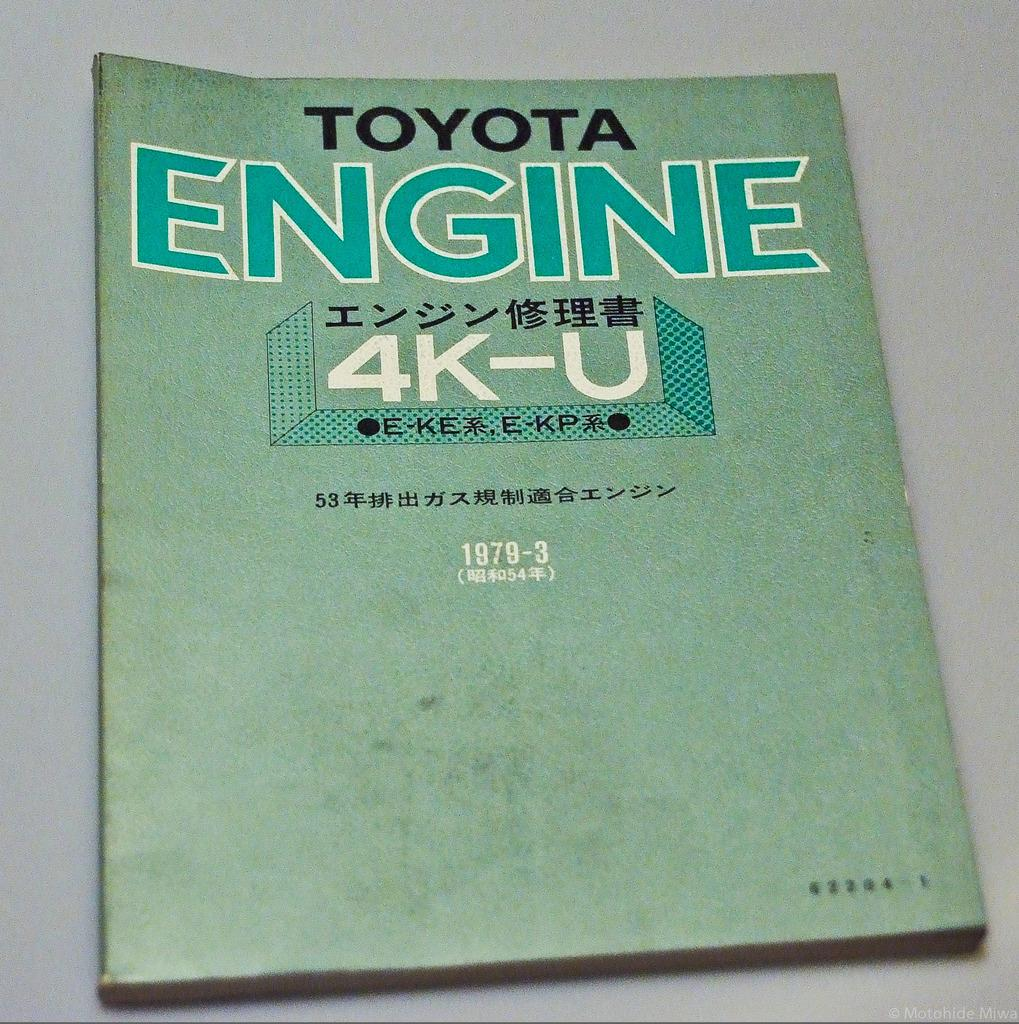book: (75, 13, 980, 987)
